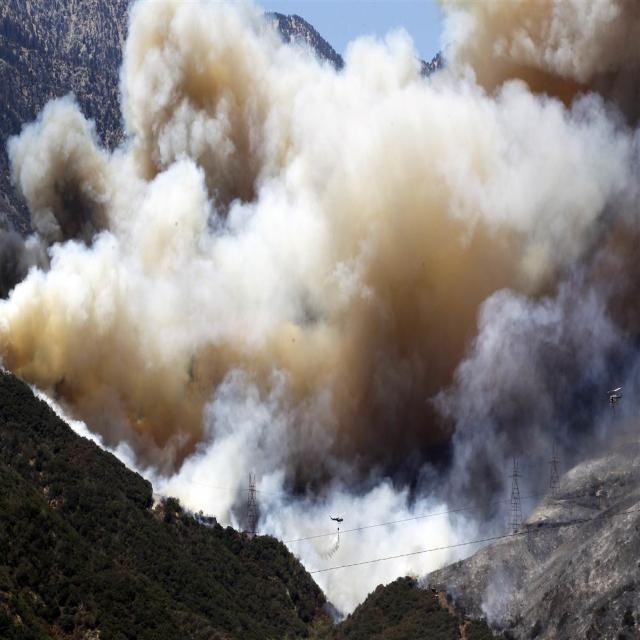Smoke: (22, 0, 640, 444), (172, 390, 507, 596)
